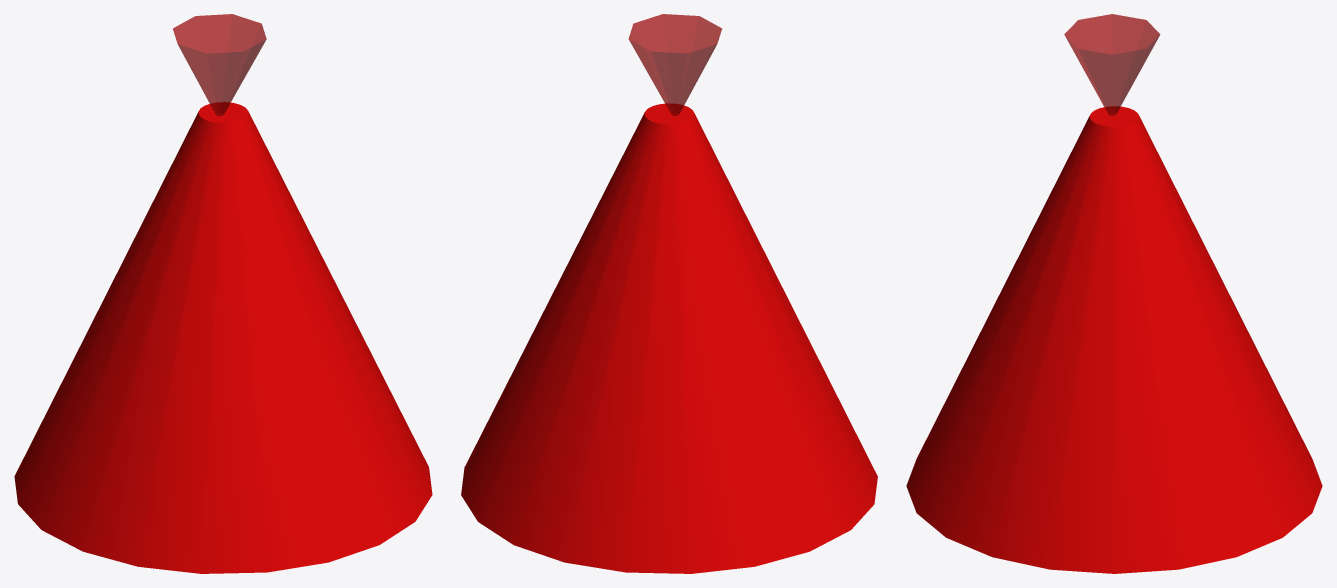
Rendered from SM_Bld_Teepee_02_Collision.fbx.
3 renders of one model, left to right at view 1: azimuth 30°, elevation 25°; view 2: azimuth 150°, elevation 25°; view 3: azimuth 270°, elevation 25°, orthographic.
Parts seen in each view (by area): view 1: SM_Bld_Teepee_02_Collision; view 2: SM_Bld_Teepee_02_Collision; view 3: SM_Bld_Teepee_02_Collision.
Part boxes in pixels (left/top/right/bottom): SM_Bld_Teepee_02_Collision: left=14, top=14, right=432, bottom=573; SM_Bld_Teepee_02_Collision: left=461, top=14, right=877, bottom=573; SM_Bld_Teepee_02_Collision: left=906, top=14, right=1322, bottom=573.
Size of the model in its own units: 506 by 602 by 506.
